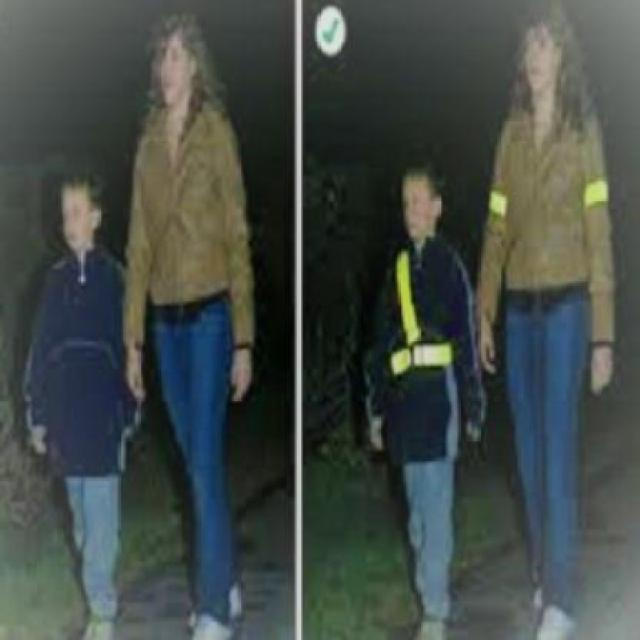obstacle: (484, 0, 618, 638), (125, 7, 257, 638), (361, 158, 492, 638), (24, 164, 138, 638)
